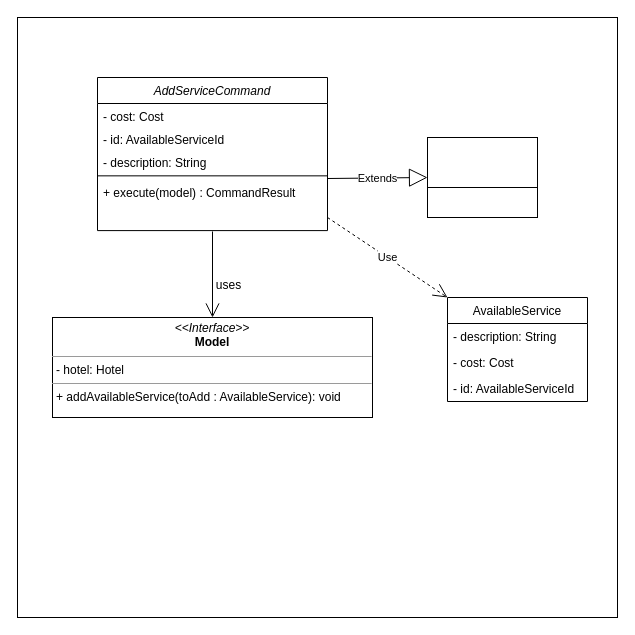
Some shapes in this 635 by 635 pixel diagram are drawn without their labels. The centre of each missing label's shape, as x and y in pixels:
+ execute(model): pixel 482 202
{abstract} Command: pixel 482 162
